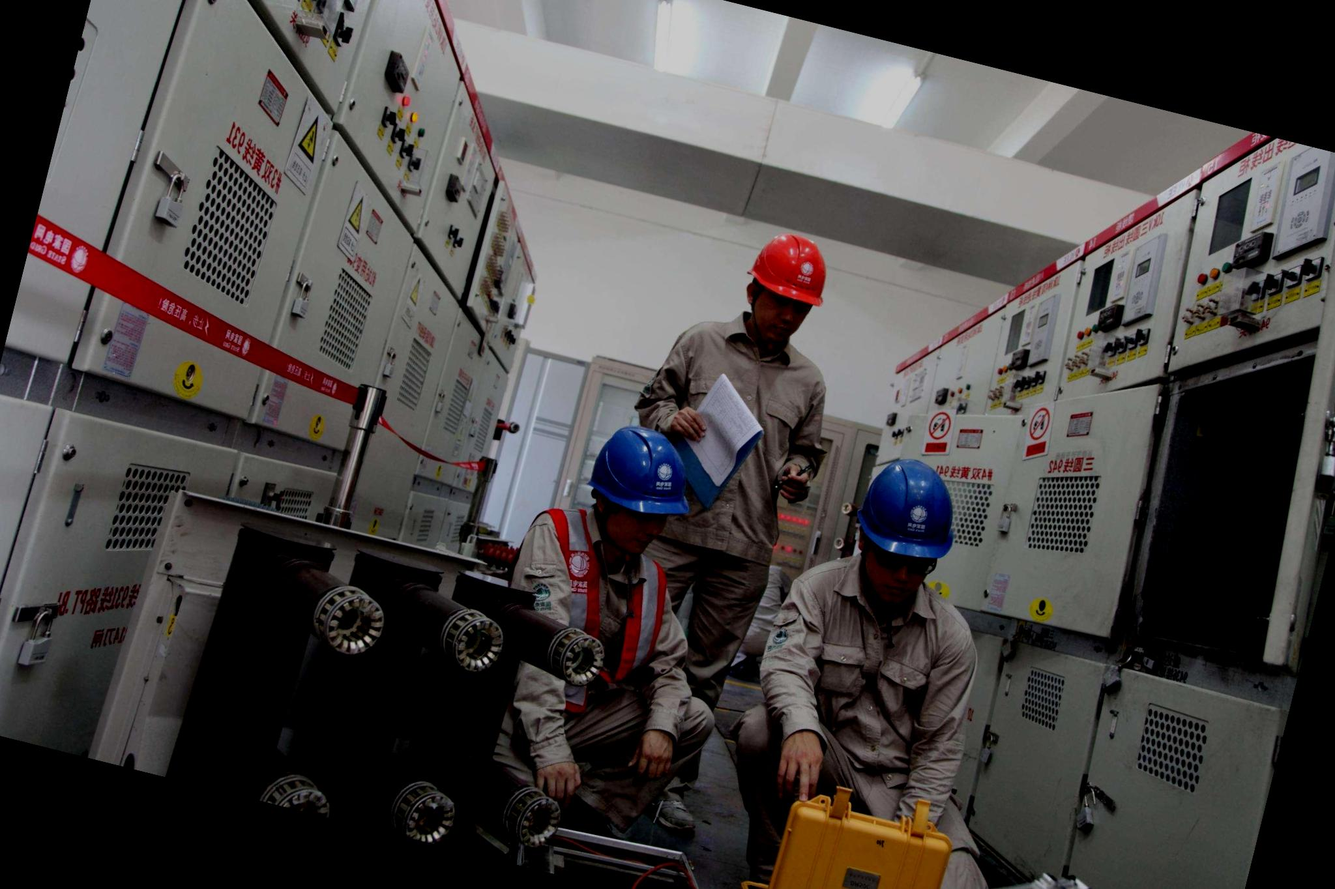helmet: (843, 443, 969, 565), (587, 419, 696, 524), (745, 228, 839, 307)
no_vest: (755, 561, 999, 810), (632, 317, 829, 569)
person: (688, 428, 1036, 889), (572, 214, 870, 735), (439, 396, 744, 889)
